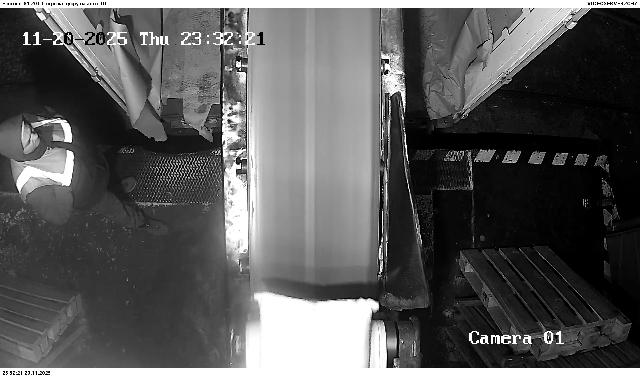bag: (255, 291, 380, 369)
